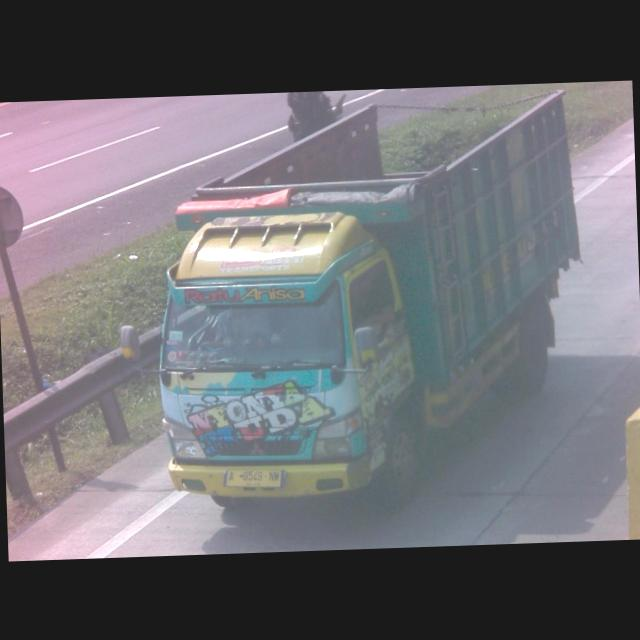plate: (225, 465, 284, 490)
